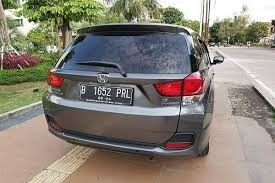plate: (81, 83, 132, 105)
